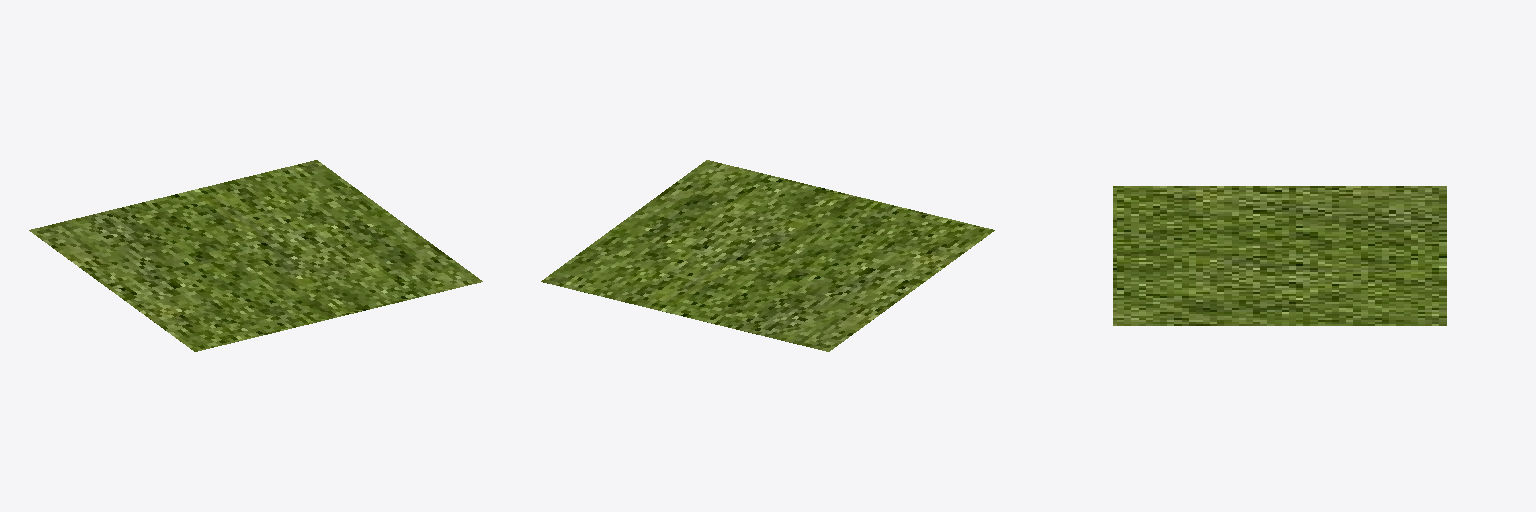
The picture shows the model from 3 angles: view 1: azimuth 30°, elevation 25°; view 2: azimuth 150°, elevation 25°; view 3: azimuth 270°, elevation 25°; orthographic projection.
Parts seen in each view (by area): view 1: pCube1; view 2: pCube1; view 3: pCube1.
Boxes of the visible parts, <box> form: pCube1: <box>29,160,482,351</box>; pCube1: <box>541,160,994,351</box>; pCube1: <box>1113,186,1446,325</box>.
Size of the model in its own units: 500000 by 136 by 500000.
Materials: 1 (1 with a texture image).